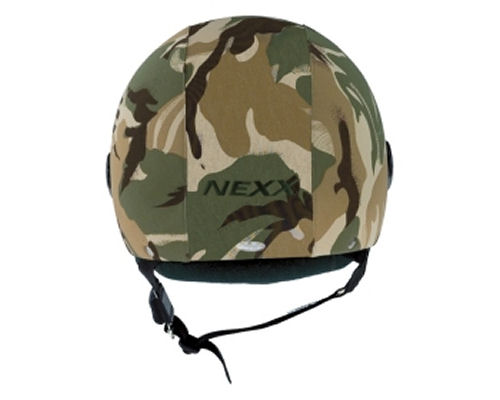helmet: (116, 30, 388, 263)
